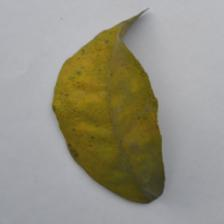greening: (40, 37, 170, 137)
